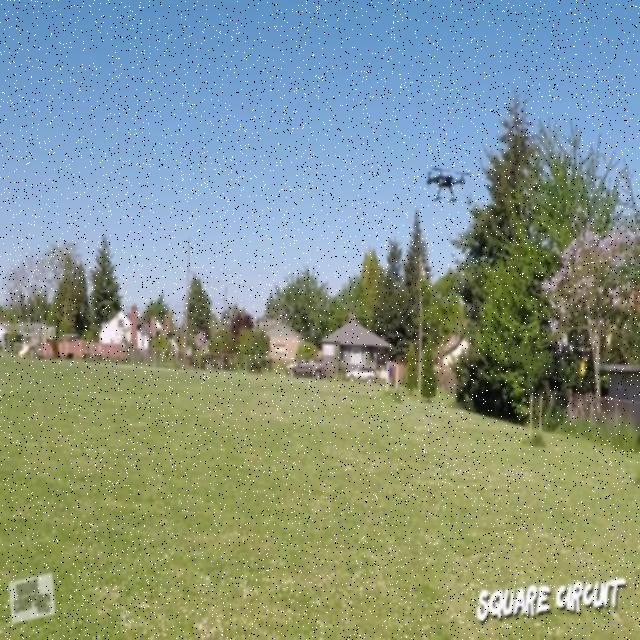UAV: (426, 167, 472, 203)
